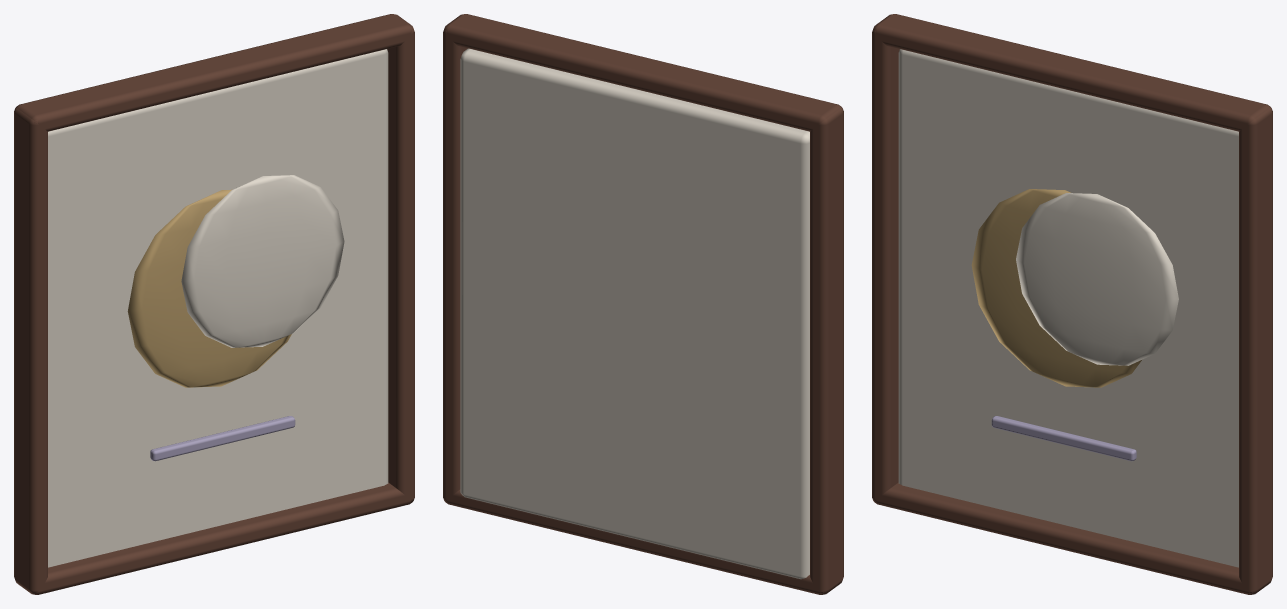
The model's file is suite_art_moon.glb.
3 renders of one model, left to right at view 1: azimuth 30°, elevation 25°; view 2: azimuth 150°, elevation 25°; view 3: azimuth 330°, elevation 25°, orthographic.
Bounding box in the file's own units: 0.945 × 1.12 × 0.1165.
